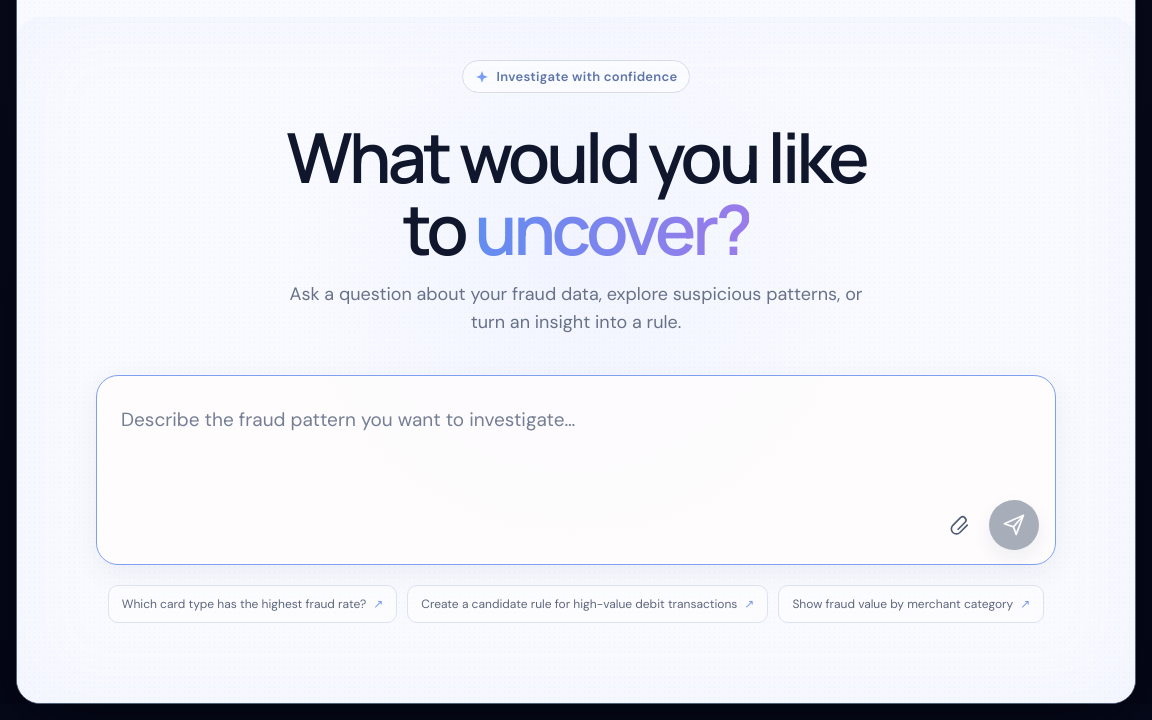
Test case: Sherlock application › submits a suggestion and supports result table and SQL interactions
(page scrolled)
Click the button "Which card type has the highest fraud rate?↗". click: (253, 604)
box: [108,584,397,622]
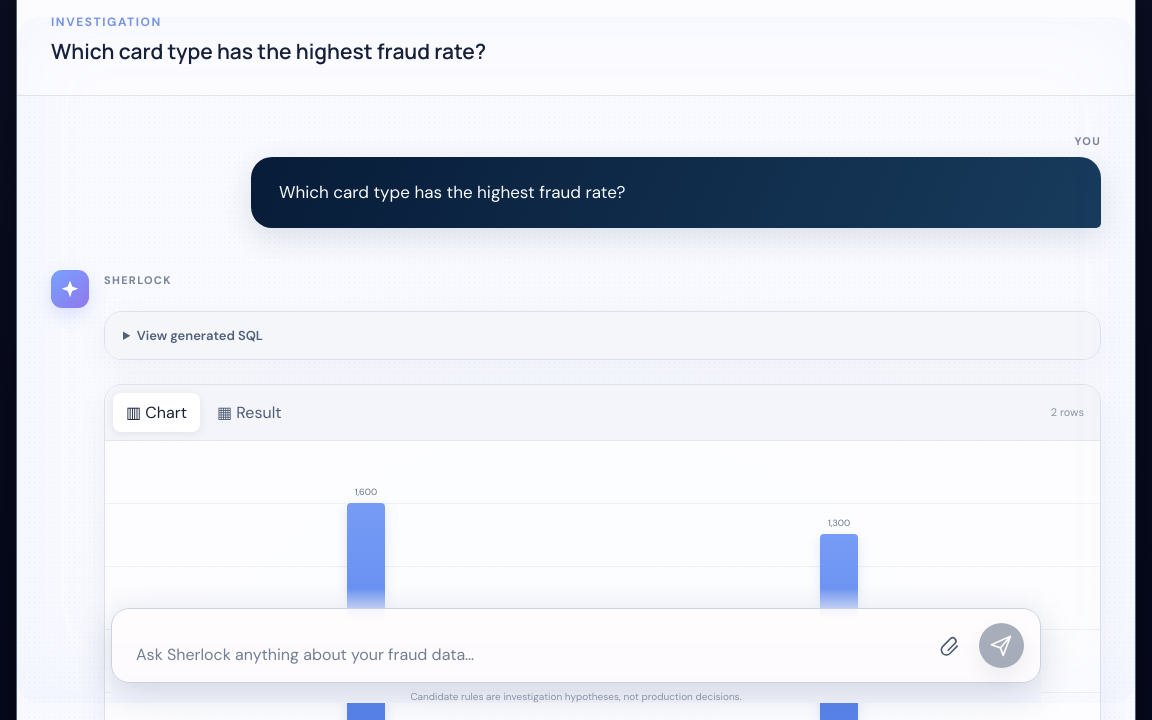
Click the tab "▦ Result". click: (249, 412)
box: [204,393,294,432]
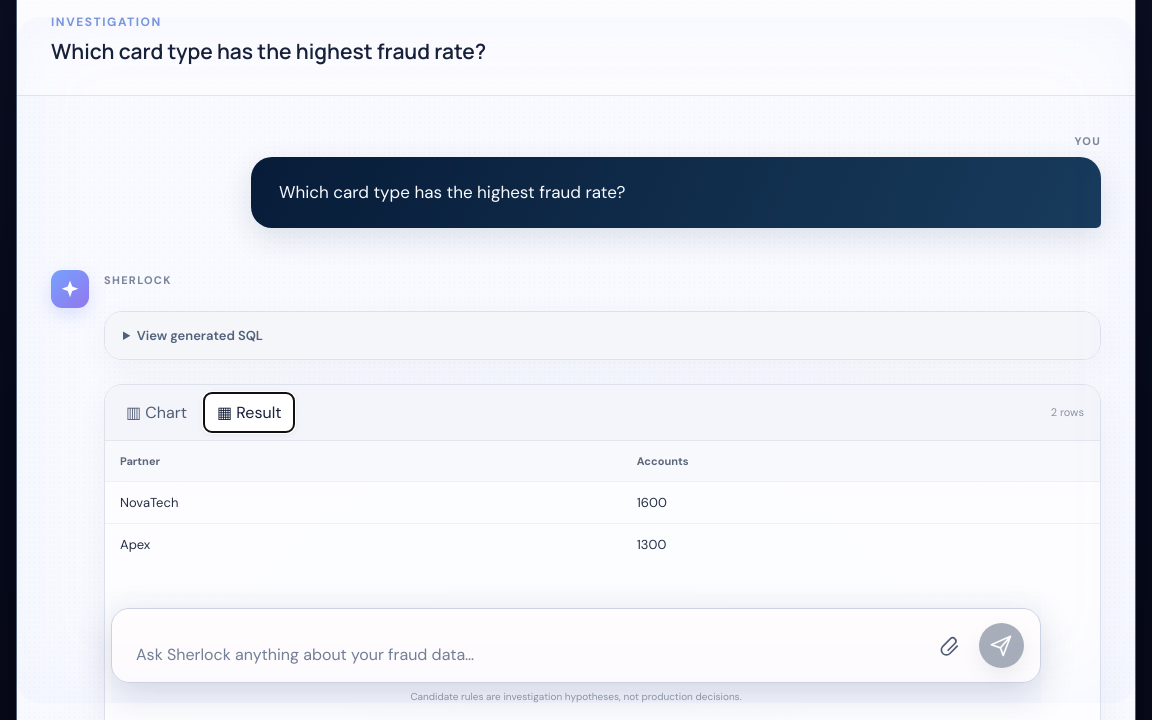
Expected: the cell "NovaTech" is shown, [105,481,622,523]
Click the heading "View generated SQL". click: (200, 335)
box: [105,312,1100,359]
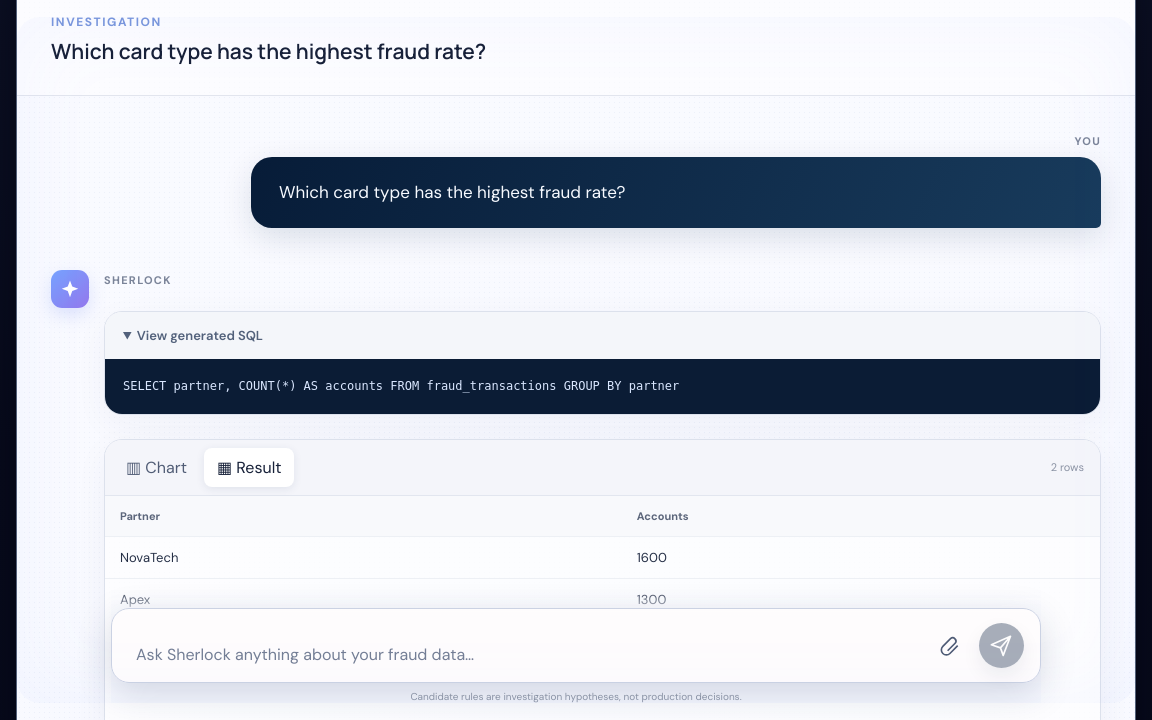
Expected: the text "SELECT partner" is shown, [123,379,679,393]
